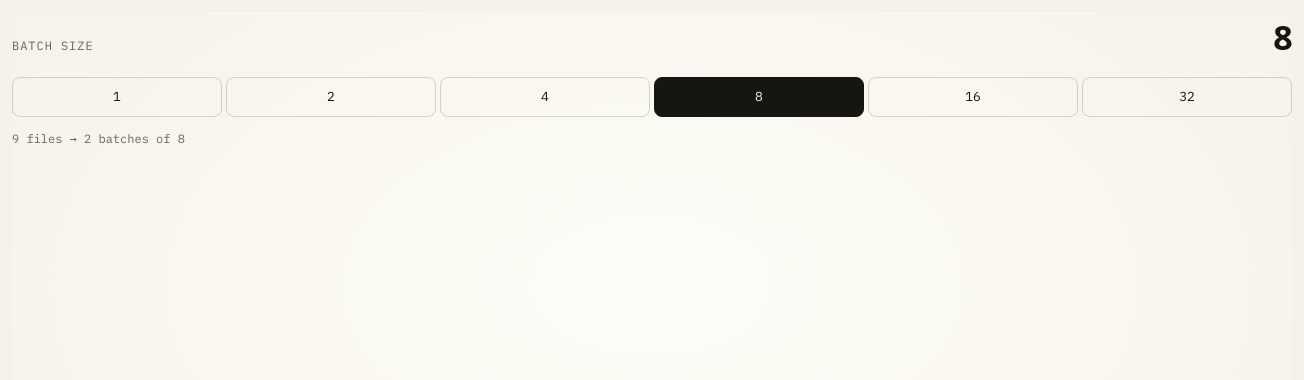
BatchSizeSelector › previews how the last search’s files split into batches
Expected: the text "9 files → 2 batches of 8" is shown, [12,131,185,146]
Click the text "16": [973, 97] box [868,77,1078,117]
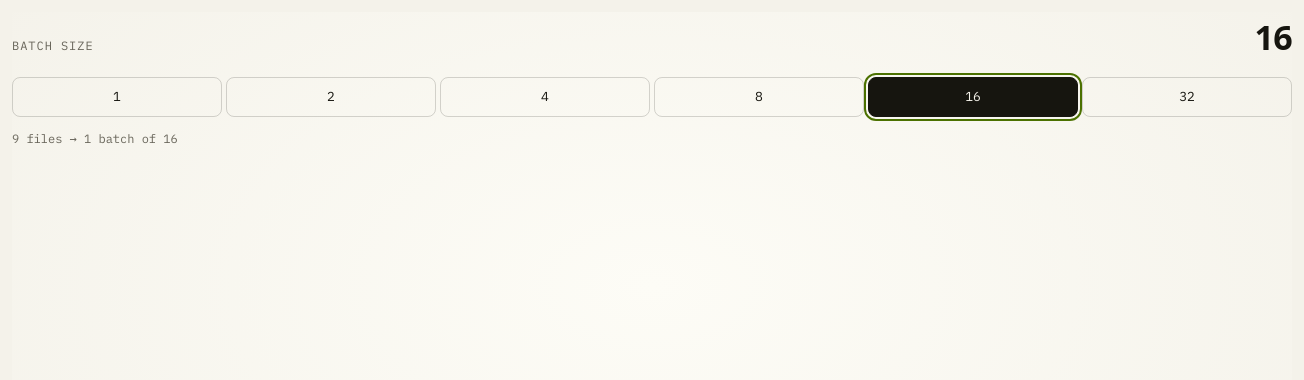
Expected: the text "9 files → 1 batch of 16" is shown, [12,131,178,146]
